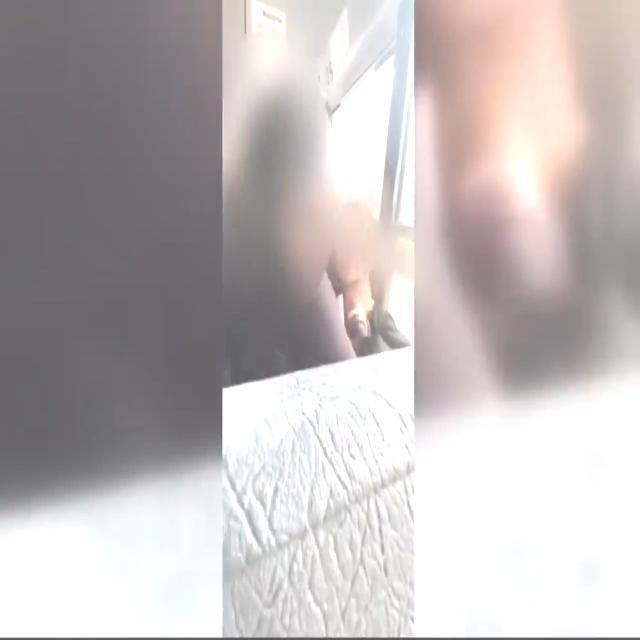fight: (218, 29, 414, 376)
